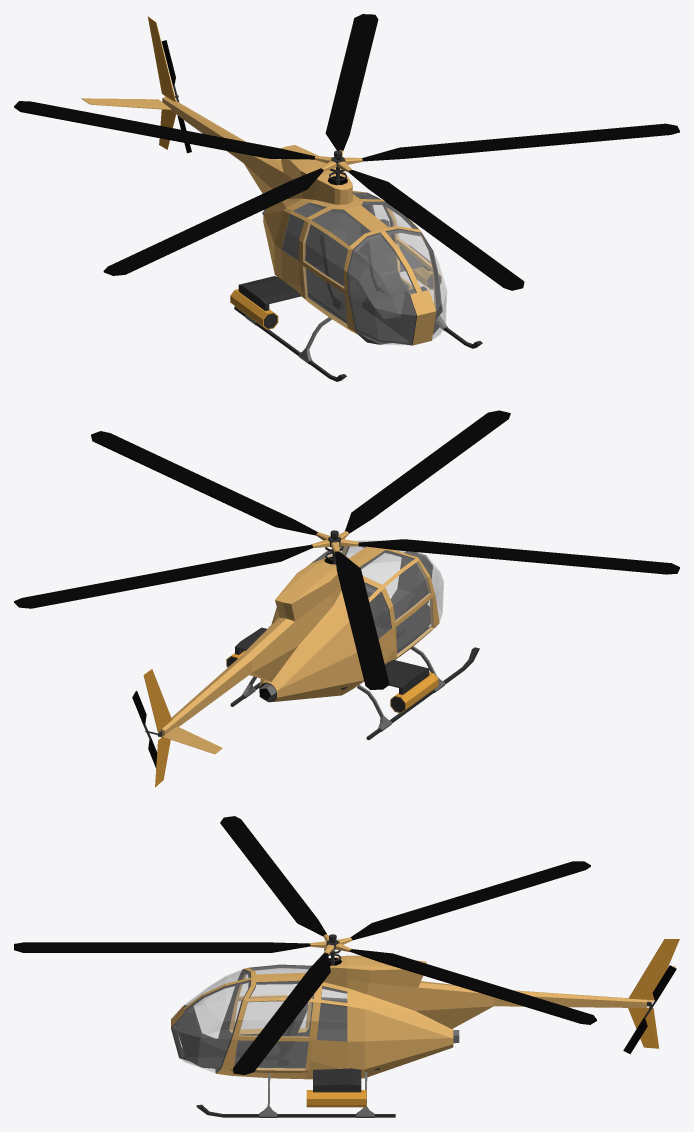
3 views of the same model, one above another, from view 1: azimuth 30°, elevation 25°; view 2: azimuth 150°, elevation 25°; view 3: azimuth 270°, elevation 25° (orthographic). The views are drawn at different scales.
Parts seen in each view (by area): view 1: Plane.010, Circle.002, Plane.012, Plane.013, Plane.011, Plane.014; view 2: Plane.010, Circle.002, Plane.013, Plane.011, Plane.012; view 3: Plane.010, Circle.002, Plane.012, Plane.014, Plane.011, Plane.013, Circle.003.
Part boxes in pixels (bbox=[...]): Plane.010: bbox=[81, 16, 482, 381]; Circle.002: bbox=[14, 14, 679, 290]; Plane.012: bbox=[347, 229, 446, 345]; Plane.013: bbox=[301, 221, 350, 330]; Plane.011: bbox=[282, 192, 417, 260]; Plane.014: bbox=[386, 207, 436, 307]; Plane.010: bbox=[143, 542, 479, 787]; Circle.002: bbox=[14, 410, 679, 689]; Plane.013: bbox=[383, 559, 435, 659]; Plane.011: bbox=[314, 546, 414, 638]; Plane.012: bbox=[346, 540, 443, 626]; Plane.010: bbox=[171, 939, 679, 1117]; Circle.002: bbox=[14, 816, 596, 1074]; Plane.012: bbox=[171, 969, 250, 1073]; Plane.014: bbox=[229, 998, 316, 1072]; Plane.011: bbox=[249, 965, 347, 1041]; Plane.013: bbox=[229, 968, 312, 1034]; Circle.003: bbox=[623, 965, 676, 1054].
Bounding box in the file's own units: 879 × 241 × 960.
